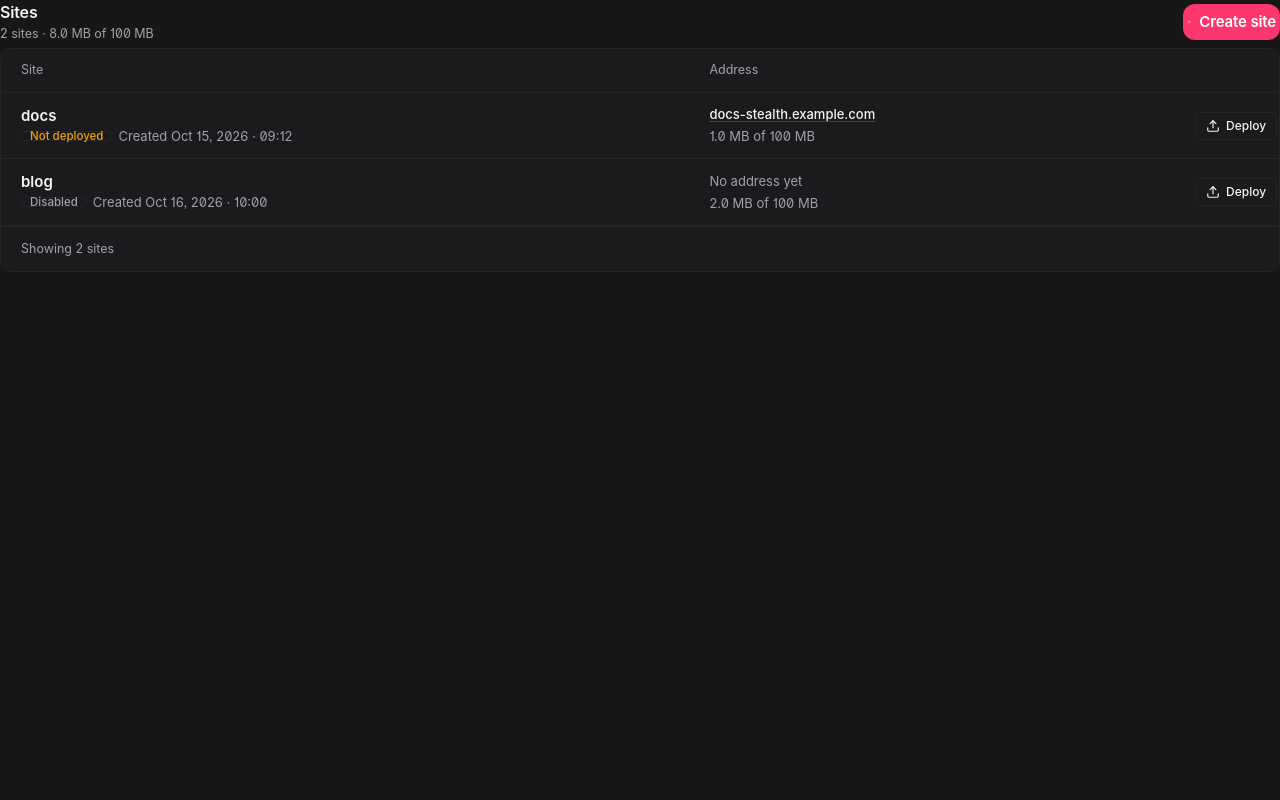
ProjectSites › opens the create dialog from the header action
Step 1. Click the button "Create site" → (1232, 22), box [1183, 4, 1279, 40]
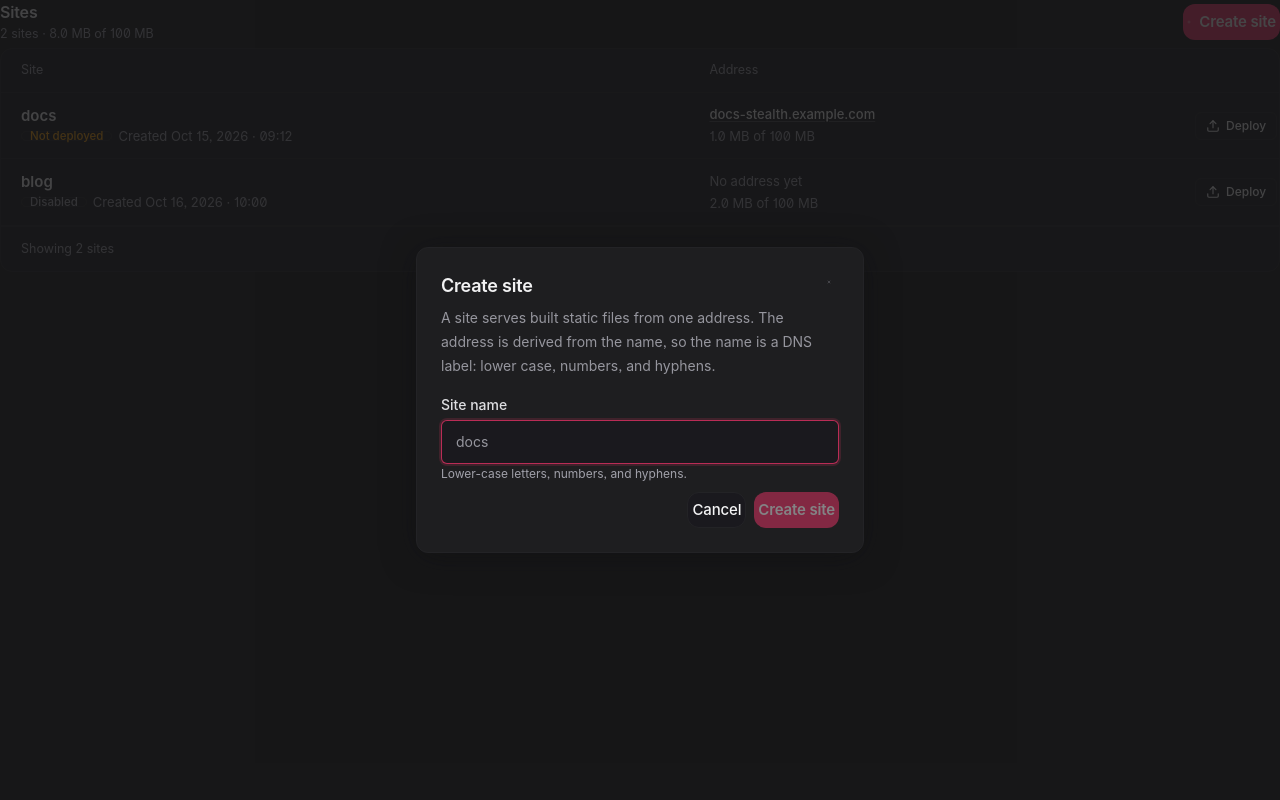
Expected: the dialog is shown, [416, 247, 864, 553]
Expected: the field labelled "Site name" is shown, [441, 420, 839, 464]
